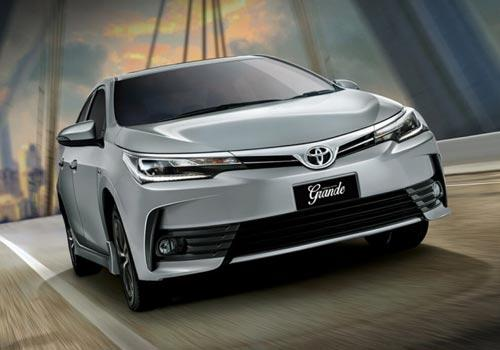windshield: (112, 55, 349, 141)
